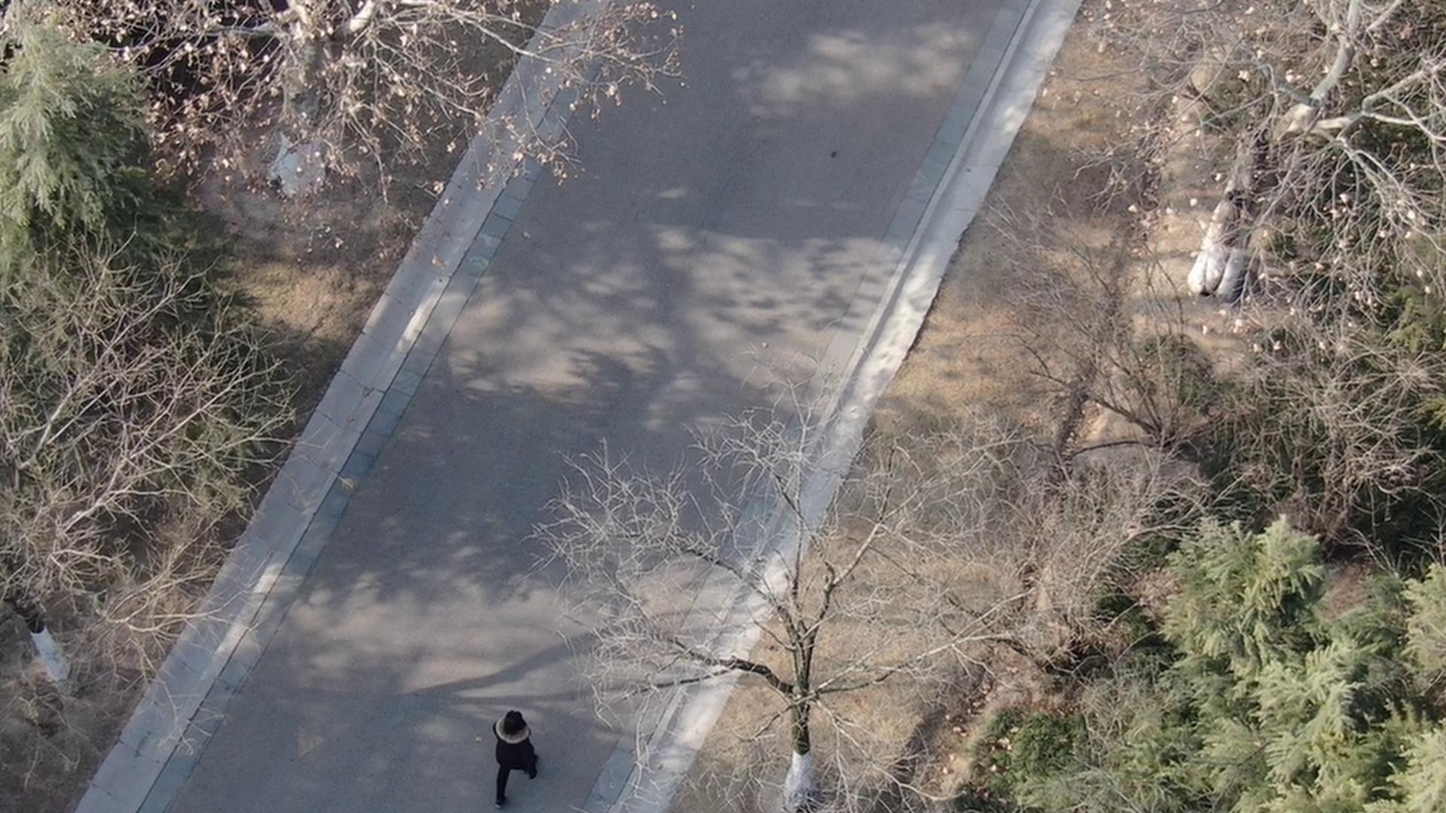human: (459, 708, 527, 808)
